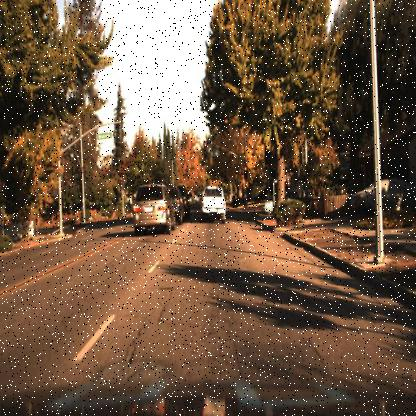car: (132, 180, 174, 230), (202, 182, 226, 227)
